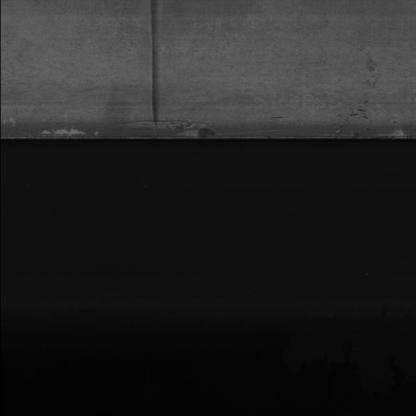crease: (136, 0, 177, 130)
